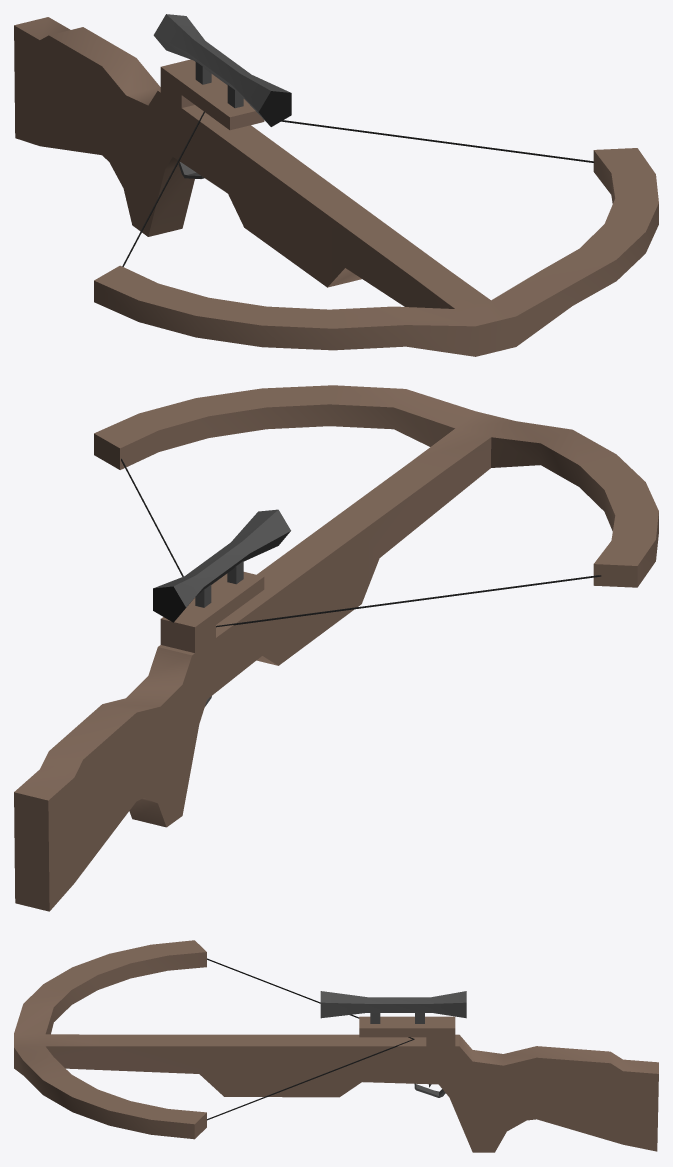
File: crossbowone.dae
3 renders of one model, top to bottom at view 1: azimuth 30°, elevation 25°; view 2: azimuth 150°, elevation 25°; view 3: azimuth 270°, elevation 25°, orthographic. The views are drawn at different scales.
Parts seen in each view (by area): view 1: vsn_mesh_0_crossbowone; view 2: vsn_mesh_0_crossbowone; view 3: vsn_mesh_0_crossbowone.
Boxes of the visible parts, x1,y1,x2,y2 form: vsn_mesh_0_crossbowone: (14, 14, 658, 356); vsn_mesh_0_crossbowone: (14, 385, 658, 911); vsn_mesh_0_crossbowone: (14, 940, 658, 1152).
Bounding box in the file's own units: 0.5523 × 0.2165 × 0.8178.
Materials: 1 (1 with a texture image).
